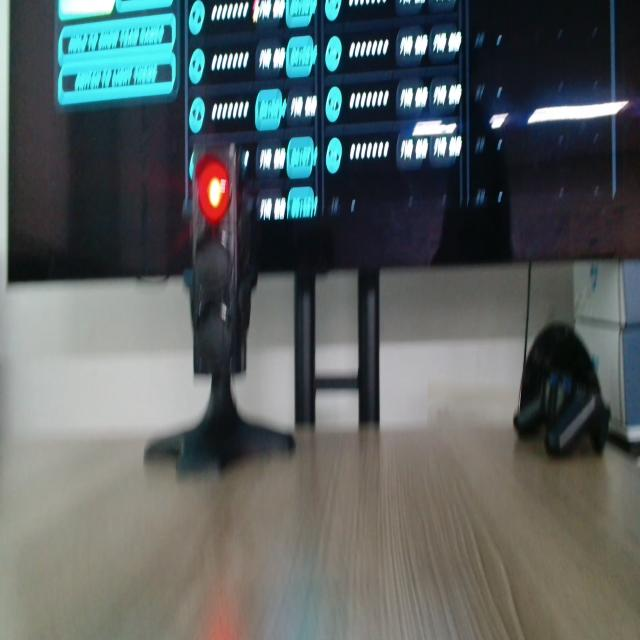red_light: (196, 156, 230, 225)
